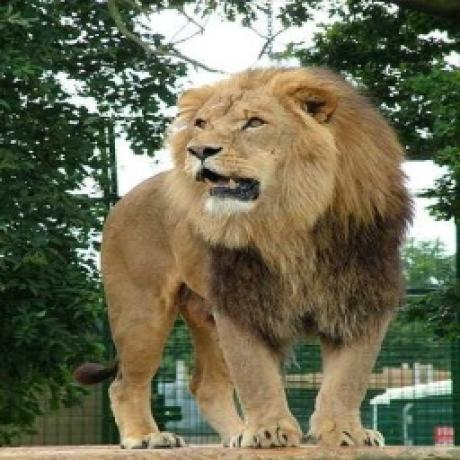Lion: (101, 63, 413, 448)
